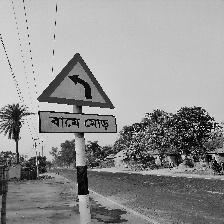Left-Turn: (37, 53, 117, 134)
